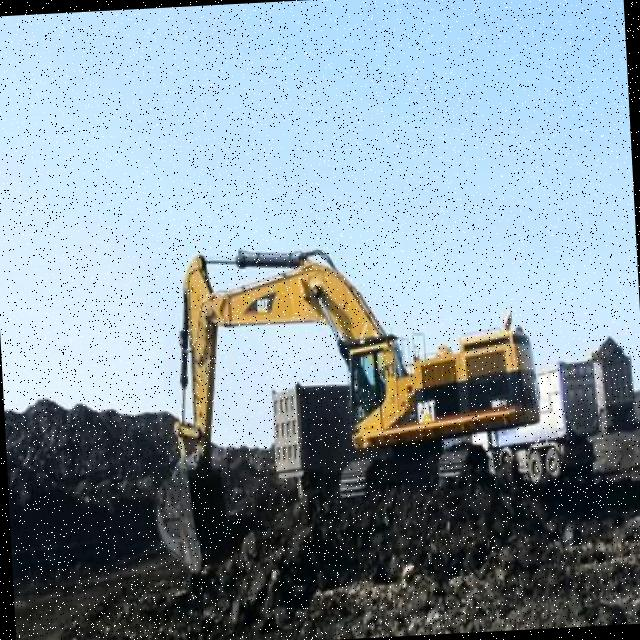Dump Truck: (267, 375, 371, 505), (511, 358, 601, 490), (593, 336, 638, 434)
Excavator: (144, 229, 546, 583)
